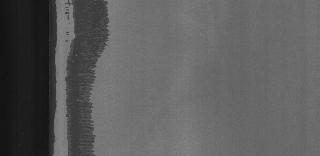oil spot: (65, 2, 121, 156)
